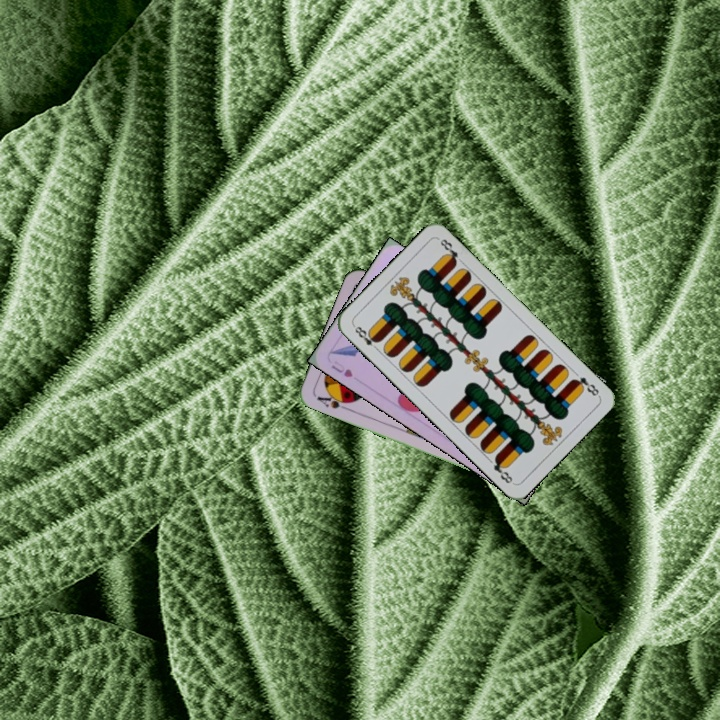E8: (350, 321, 382, 354), (568, 373, 602, 399)
HU: (327, 356, 356, 380)
SA: (313, 389, 353, 413)
